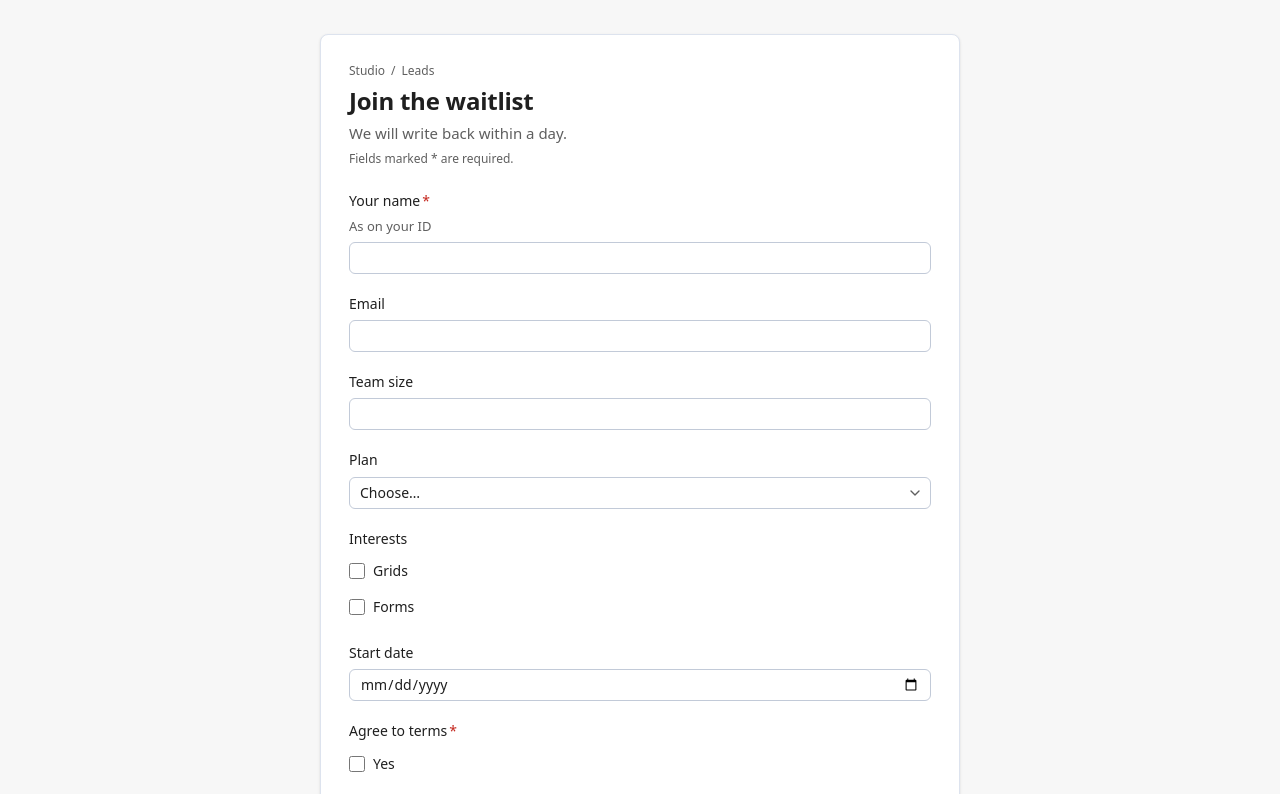
Test: a public form › says so when the visitor submits too often, or the form has been closed meanwhile
The width and height of the screenshot is (1280, 794).
Type "Ada Lovelace" into the field labelled "Your name*".
click(640, 258); type("Ada Lovelace")  # box [349, 242, 931, 274]
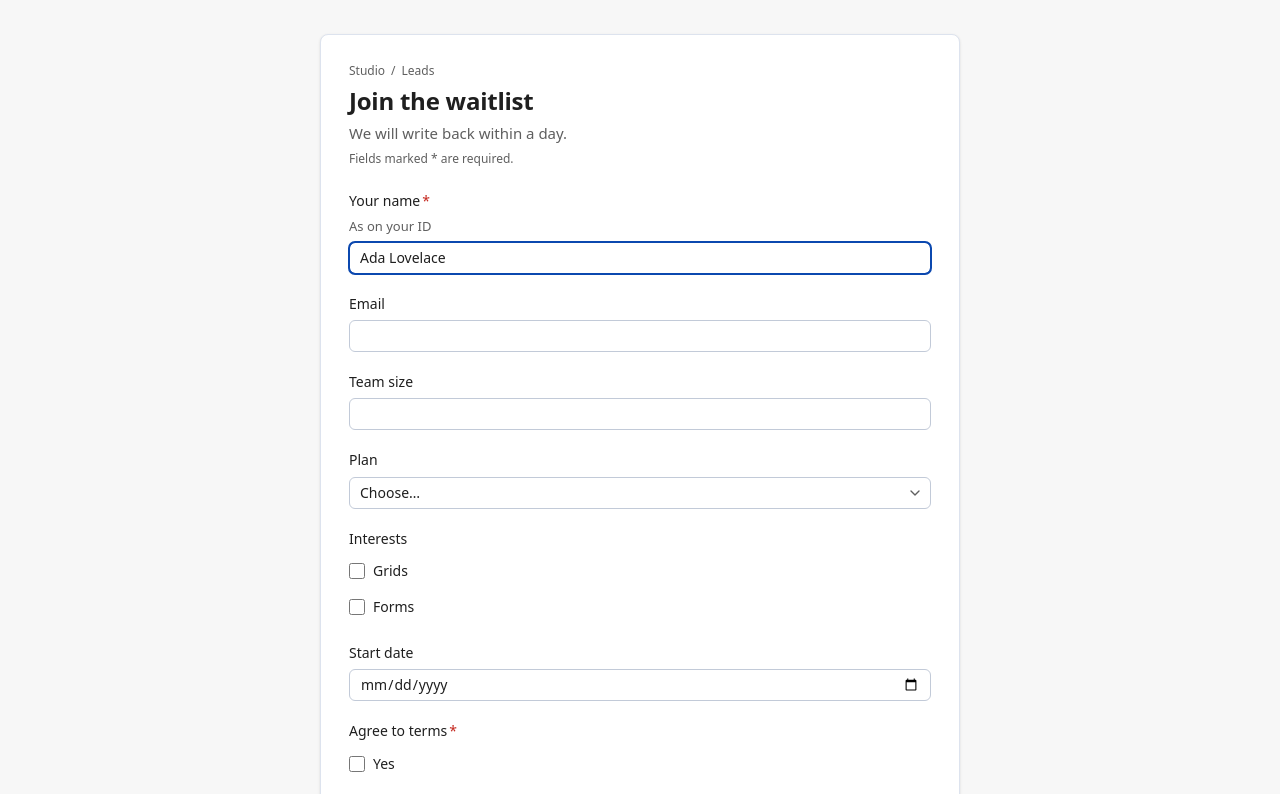
Click the checkbox labelled "Agree to terms*".
click(357, 764)  # box [349, 756, 365, 772]
(page scrolled)
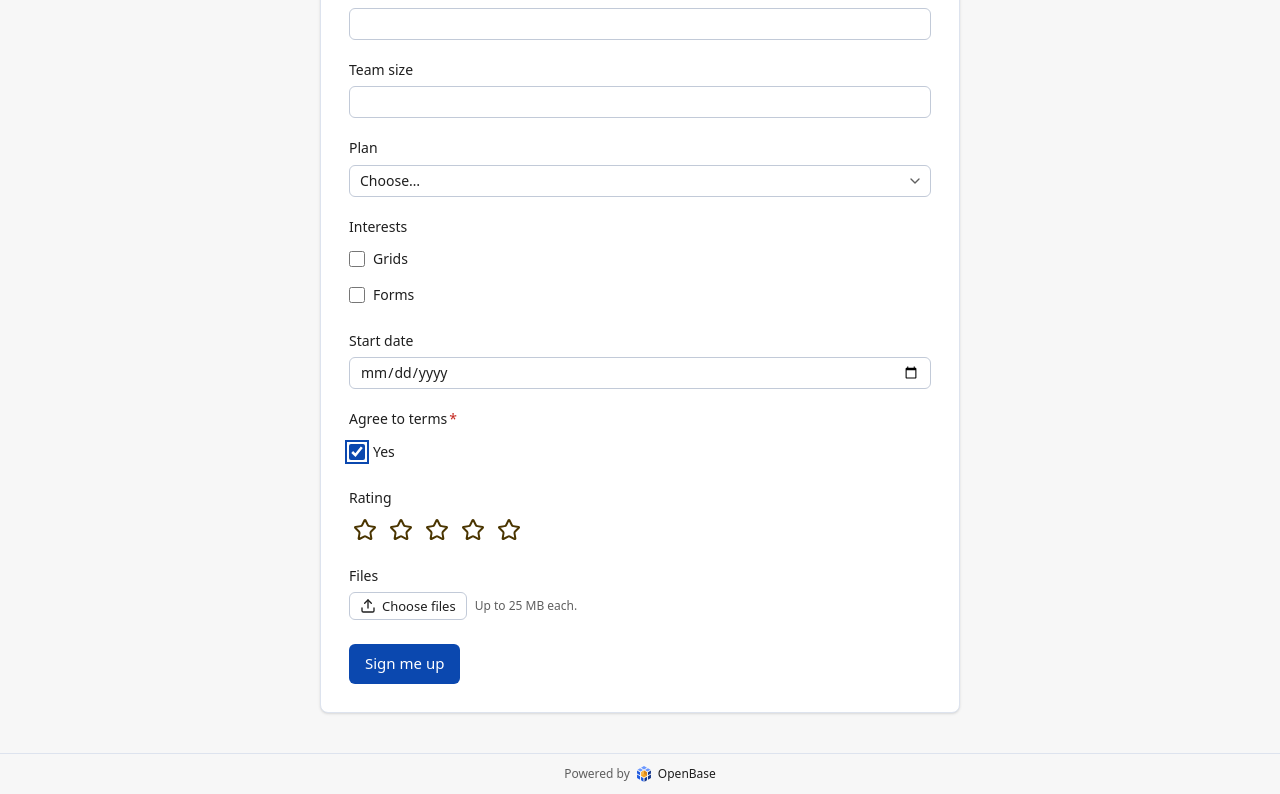
Click the button "Sign me up".
click(405, 664)  # box [349, 644, 460, 684]
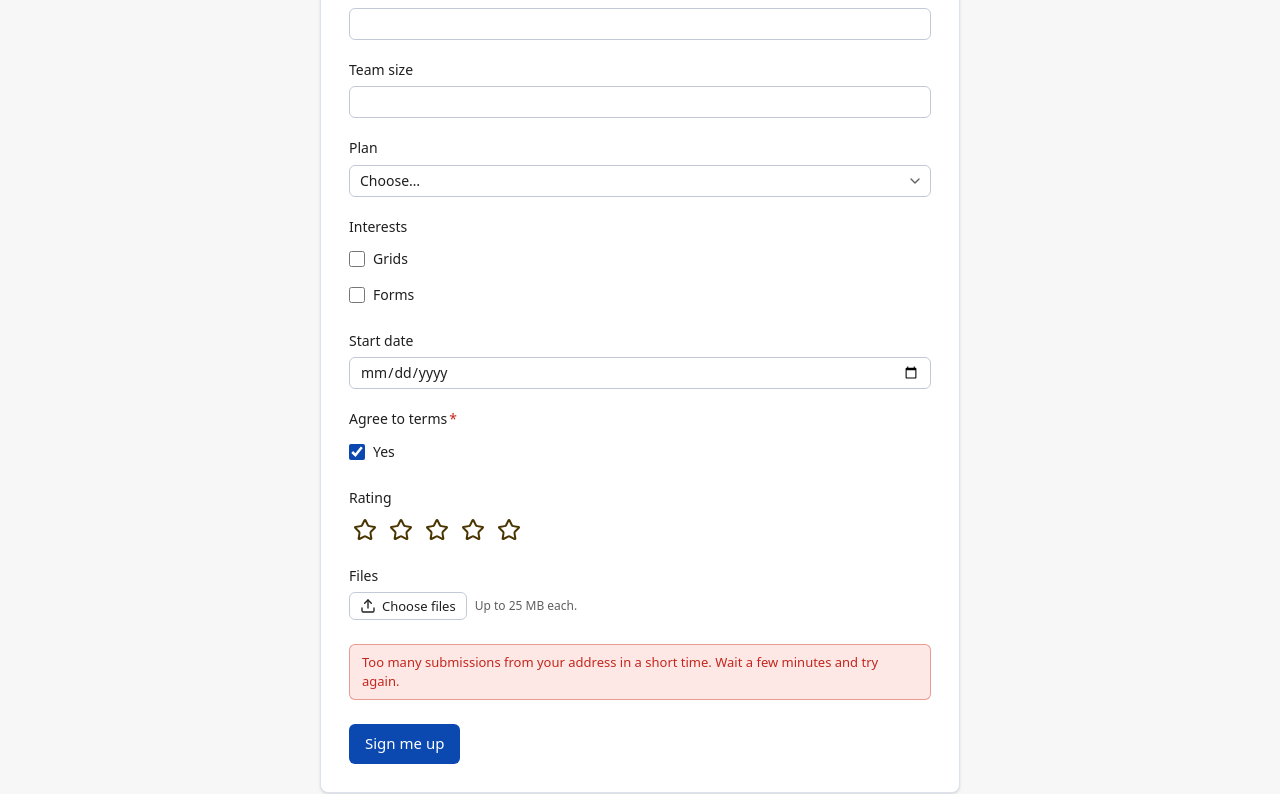
Now the text "Too many submissions" is shown, box [362, 653, 878, 690]
Click the button "Sign me up".
click(405, 744)  # box [349, 724, 460, 764]
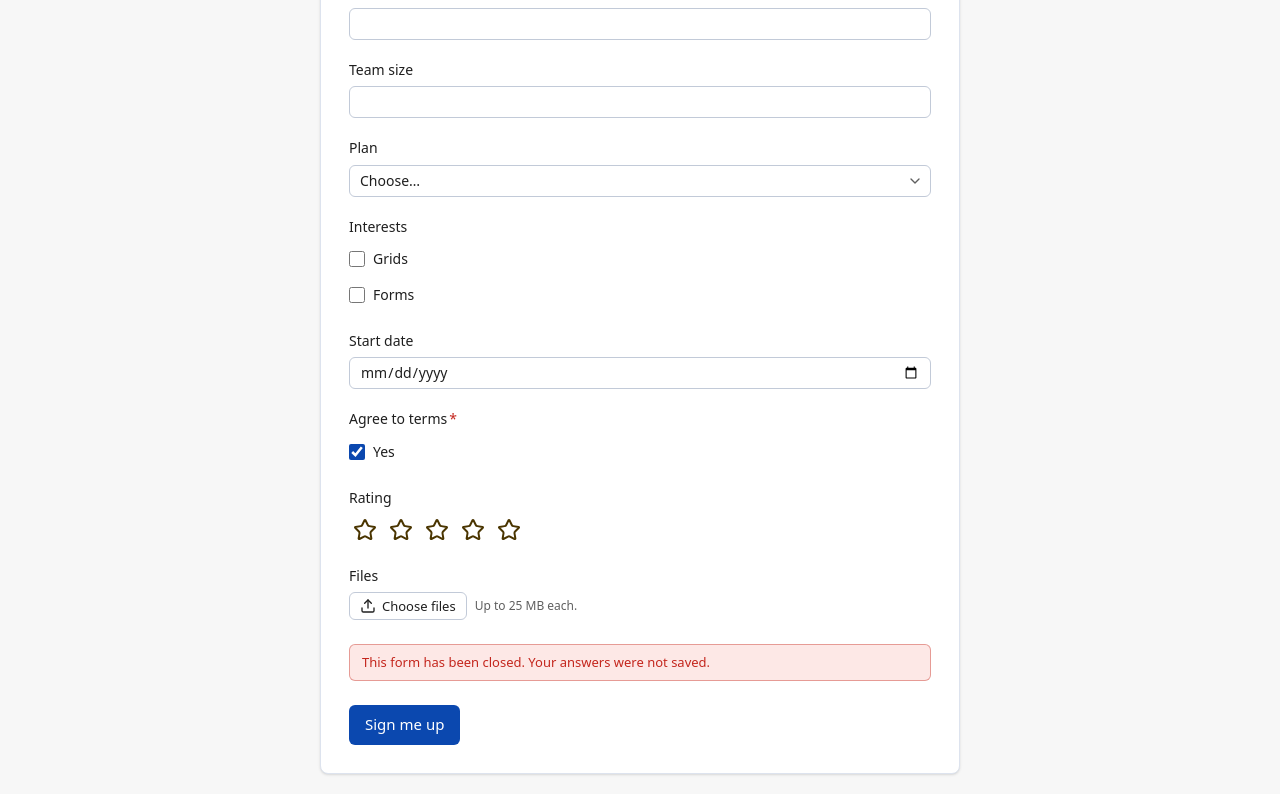
Now the text "This form has been closed. Your answers were not saved." is shown, box [349, 644, 931, 681]
